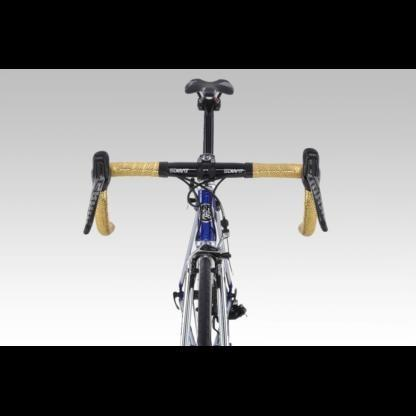Bicycle: (41, 66, 369, 347)
